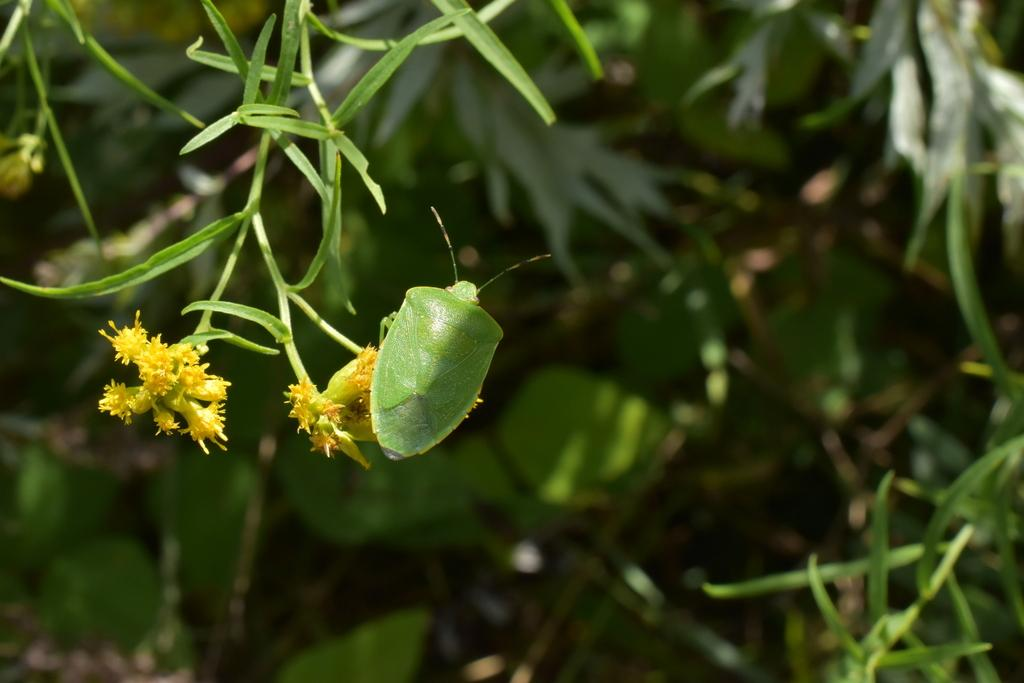stink_bugs: (313, 171, 580, 493)
